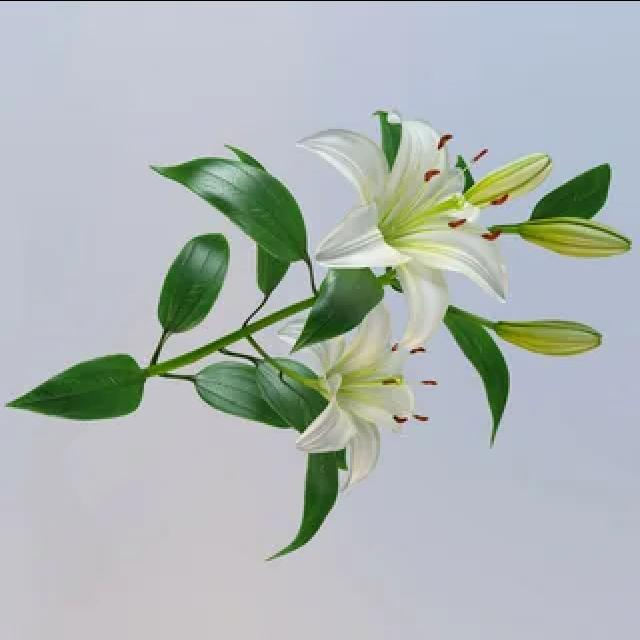lily: (284, 106, 522, 352)
